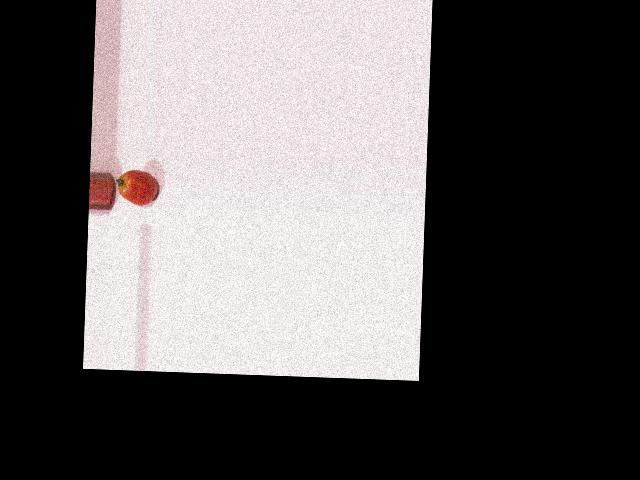tomato: (117, 169, 157, 206)
